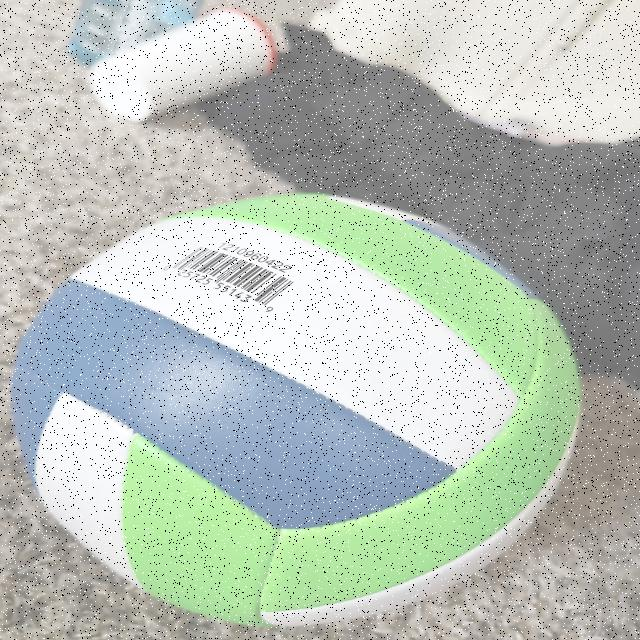ball: (6, 190, 592, 620)
